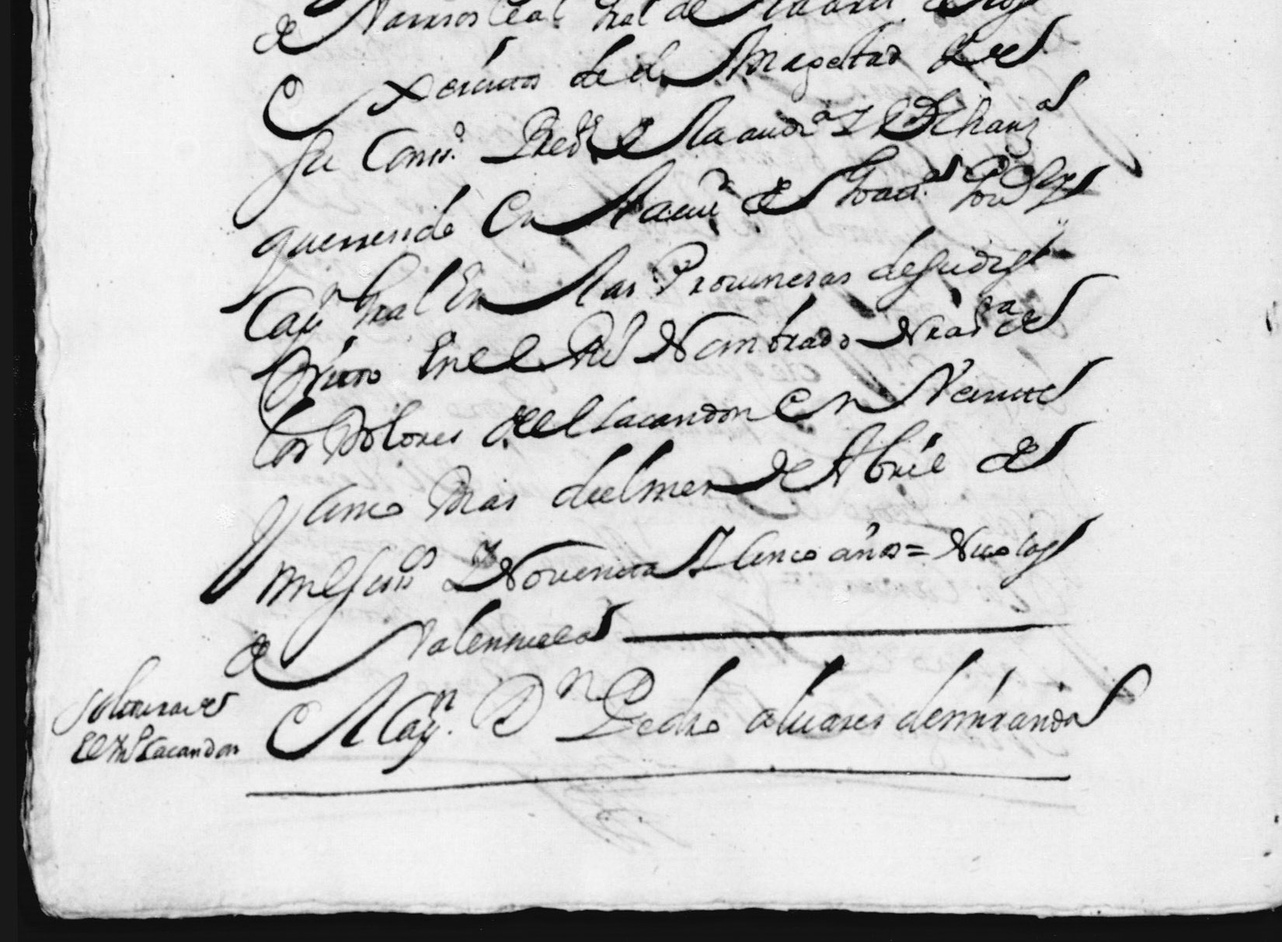lacandon: (135, 736, 239, 762)
